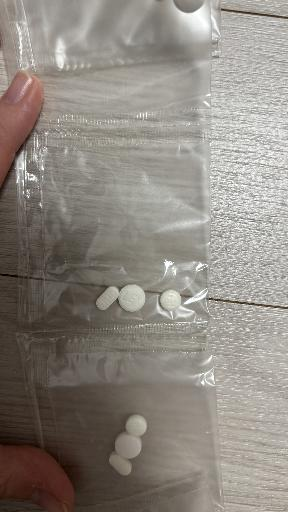Elexin: (125, 414, 147, 436), (160, 290, 181, 311)
Humosa: (109, 451, 132, 476), (96, 286, 119, 310)
Lexofen: (118, 284, 145, 311), (115, 432, 142, 459)
vinyl: (15, 0, 212, 335), (38, 351, 223, 512)
